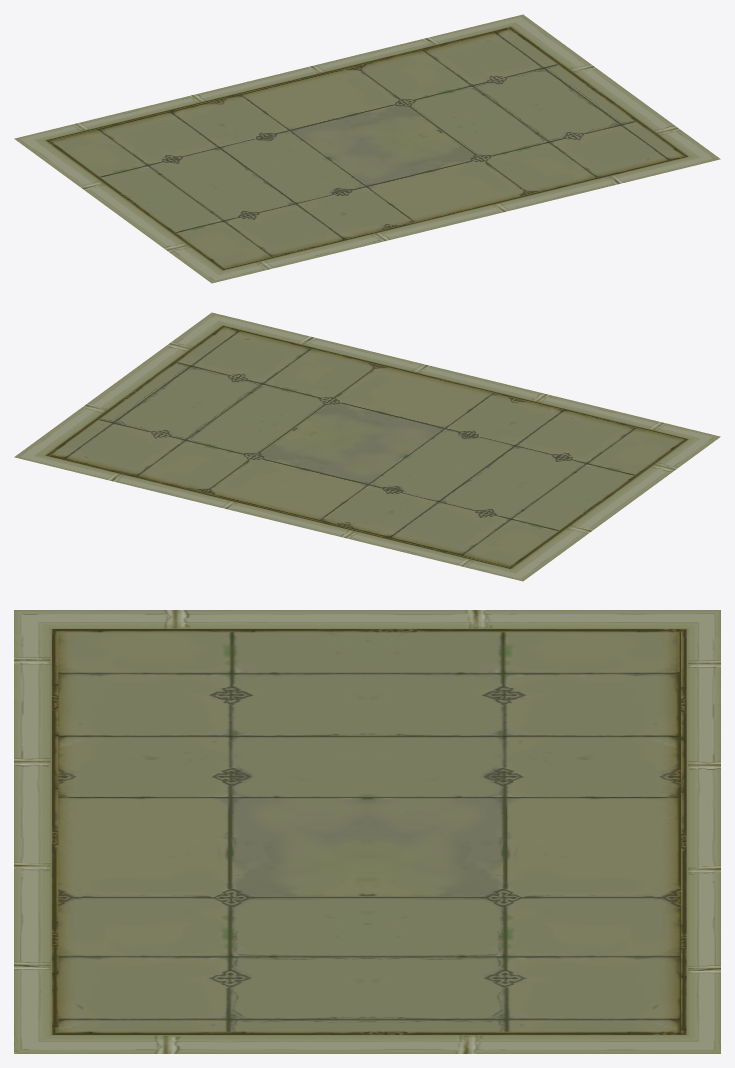
The model's file is sences_zhucheng_lumian01.FBX.
3 renders of one model, top to bottom at view 1: azimuth 30°, elevation 25°; view 2: azimuth 150°, elevation 25°; view 3: azimuth 270°, elevation 25°, orthographic. The views are drawn at different scales.
Visible parts, largest first — view 1: Plane01; view 2: Plane01; view 3: Plane01.
Part boxes in pixels (box(x1,y1,x2,y2)): Plane01: box(14, 14, 720, 283); Plane01: box(14, 312, 720, 581); Plane01: box(14, 610, 720, 1053).
Size of the model in its own units: 62.03 by 41.74 by 0.
